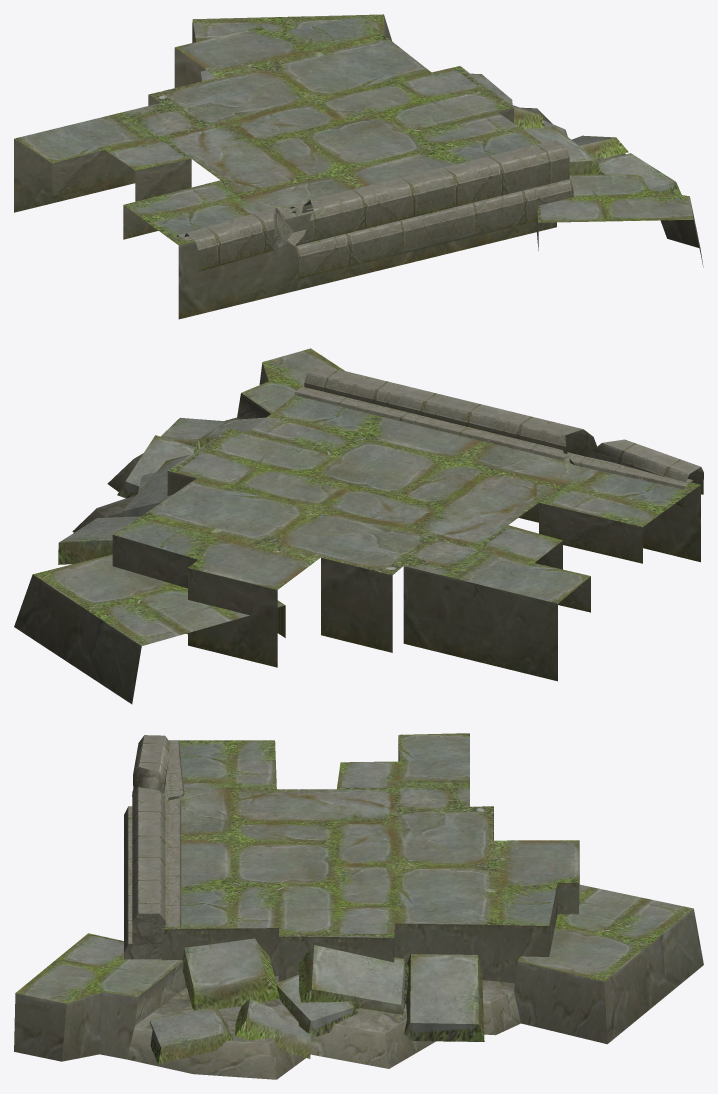
The model's file is wlf_duanqiao03_jgc.FBX.
3 views of the same model, one above another, from view 1: azimuth 30°, elevation 25°; view 2: azimuth 150°, elevation 25°; view 3: azimuth 270°, elevation 25° (orthographic). The views are drawn at different scales.
Parts seen in each view (by area): view 1: wlf_duanqiao03_jgc; view 2: wlf_duanqiao03_jgc; view 3: wlf_duanqiao03_jgc.
Part boxes in pixels (<box>): wlf_duanqiao03_jgc: <box>14,14,703,319</box>; wlf_duanqiao03_jgc: <box>14,348,703,704</box>; wlf_duanqiao03_jgc: <box>14,733,703,1079</box>.
Bounding box in the file's own units: 109 × 19.72 × 121.
